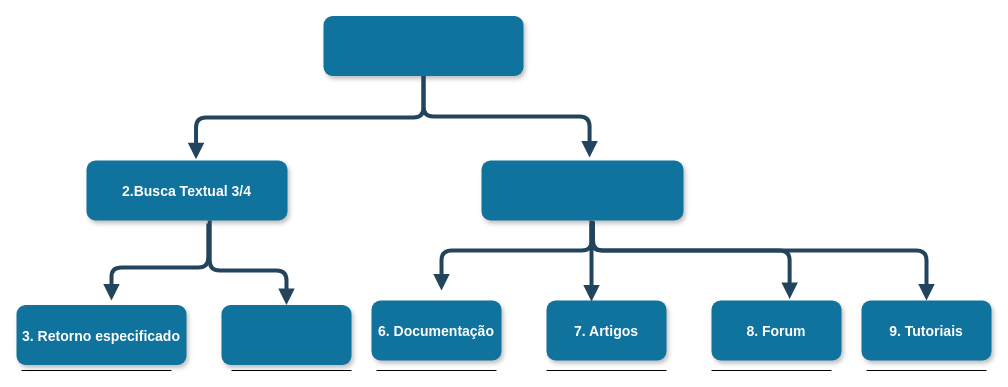
The diagram is 1008 pixels wide and 387 high, and some of its shapes have lost their labels. Here are the shapes that lost their labels. From the top down, the centre of each, then its label:
At (x=424, y=47): "1. Buscar Informação 5/6".
At (x=583, y=191): "5. Busca Específica 6/7/8/9".
At (x=287, y=336): "4. Retorno geral".
